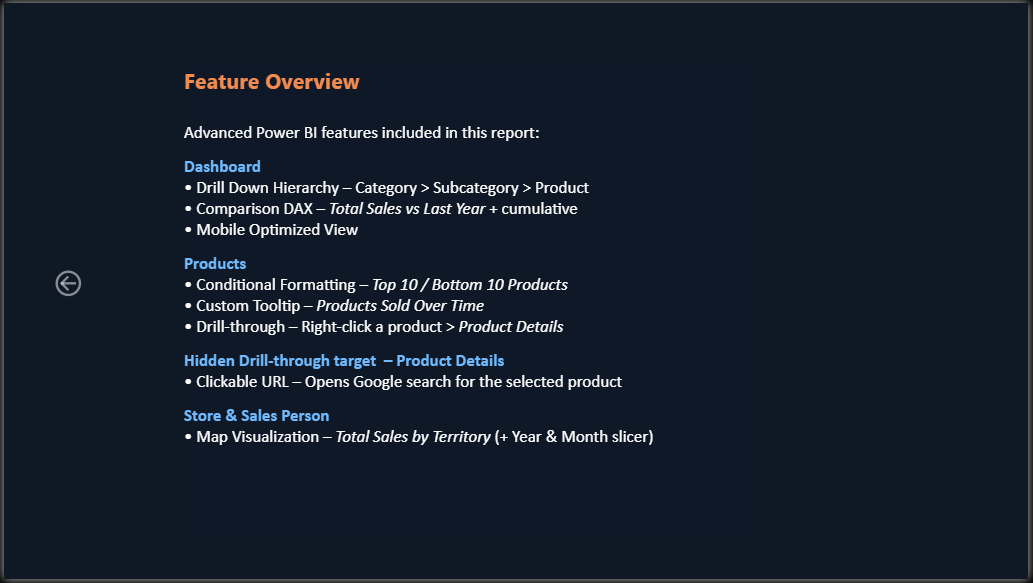

This screenshot's page, from the dashboard's own definition file:
{"tool":"powerbi","page":{"name":"4. Feature Overview","canvas":[1280,720],"ordinal":3},"visuals":[{"type":"textbox","box":[220,73.3,721.7,593.3],"z":0},{"type":"actionButton","box":[51.7,321.7,66.7,58.3],"z":1000}]}

Visuals, with their boxes in screenshot pixels (x1, y1, x2, y2), scaled from the page's 1280x720 canvas onto the 1033x583 screenshot:
textbox: [x1=178, y1=59, x2=760, y2=540]
actionButton: [x1=42, y1=260, x2=96, y2=308]
